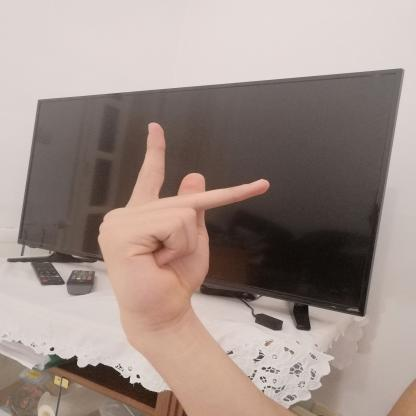DHAA: (86, 114, 282, 334)
